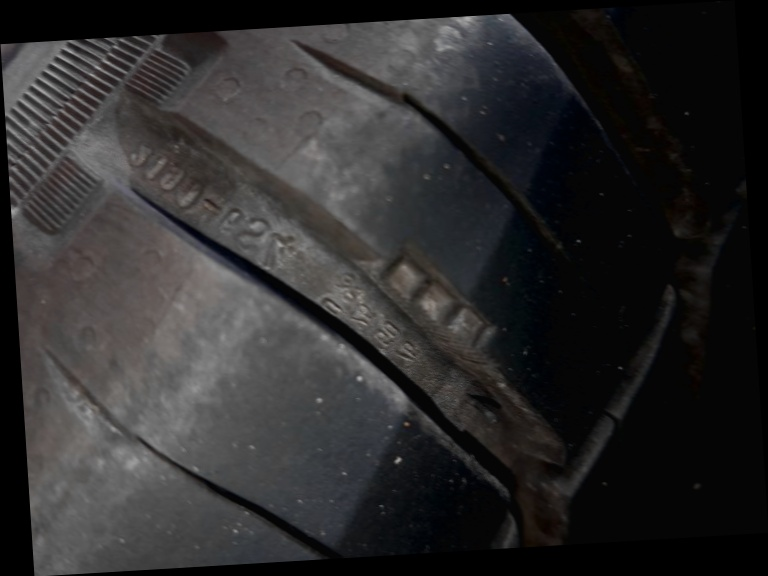temoin:90: (344, 231, 510, 385)
